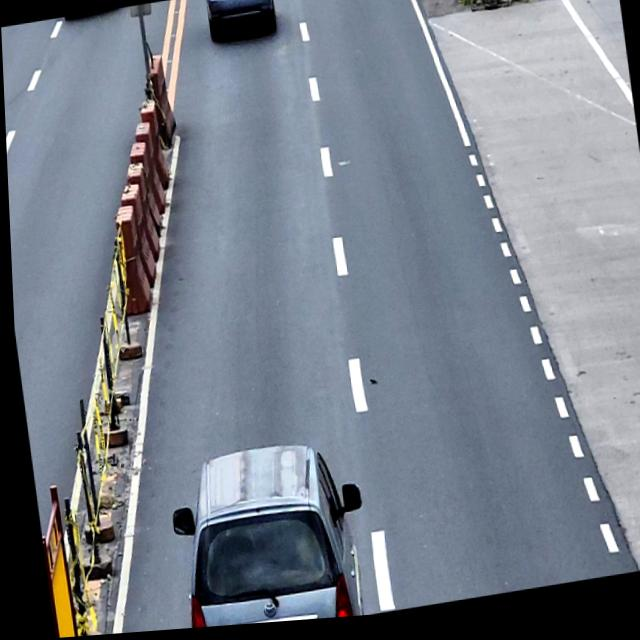Car: (158, 436, 369, 632), (204, 0, 277, 45)
